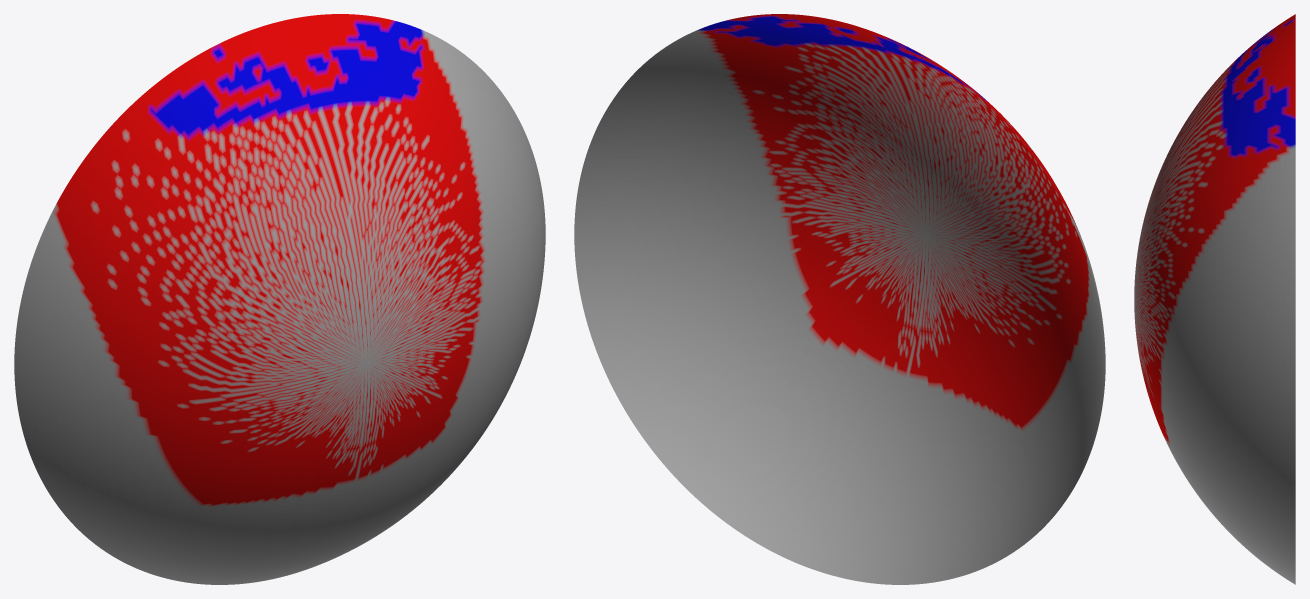
Rendered from dome_sky_model.glb.
3 renders of one model, left to right at view 1: azimuth 30°, elevation 25°; view 2: azimuth 150°, elevation 25°; view 3: azimuth 270°, elevation 25°, orthographic. The views are drawn at different scales.
Visible parts, largest first — view 1: world; view 2: world; view 3: world.
Part boxes in pixels (x1=…): world: x1=14, y1=14, x2=545, y2=584; world: x1=574, y1=14, x2=1105, y2=584; world: x1=1134, y1=14, x2=1295, y2=584.
Bounding box in the file's own units: 85.72 × 85.72 × 24.25.
